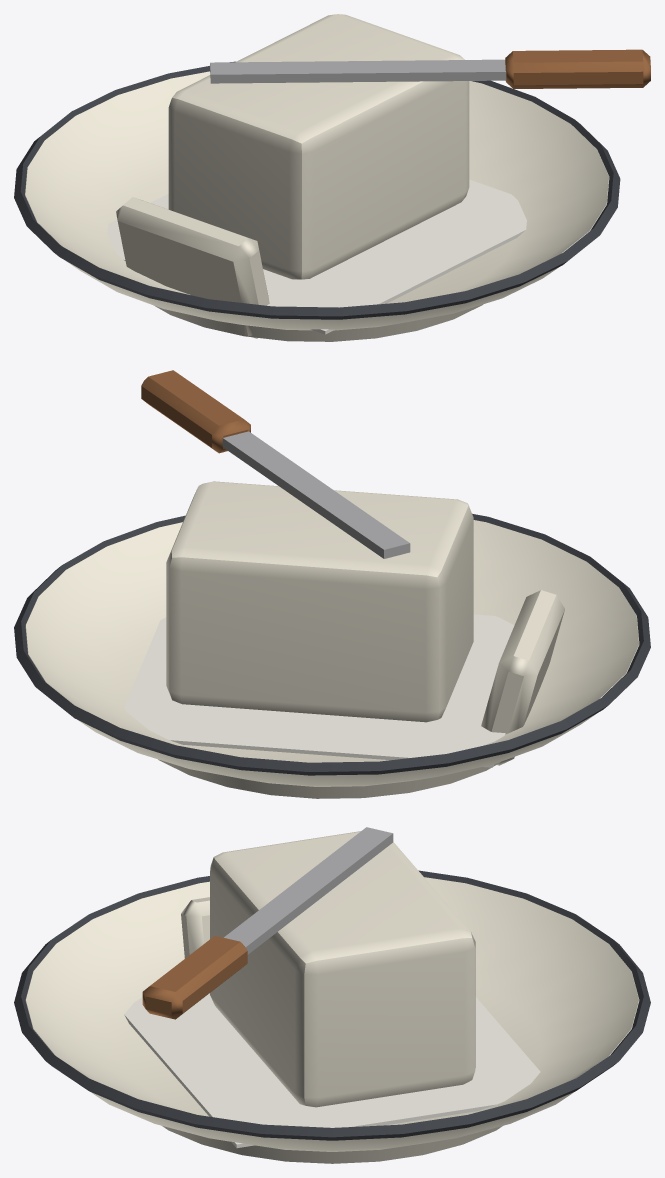
The model's file is cook_butter.glb.
3 renders of one model, top to bottom at view 1: azimuth 30°, elevation 25°; view 2: azimuth 150°, elevation 25°; view 3: azimuth 270°, elevation 25°, orthographic. The views are drawn at different scales.
Parts seen in each view (by area): view 1: body; view 2: body; view 3: body.
Part boxes in pixels (x1,y1,x2,y2): body: [14, 14, 650, 341]; body: [14, 370, 650, 798]; body: [14, 827, 650, 1163].
Bounding box in the file's own units: 0.0628 × 0.0237 × 0.0628.
